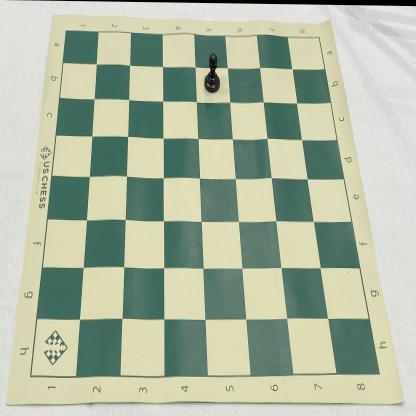black-pawn: (204, 53, 221, 93)
